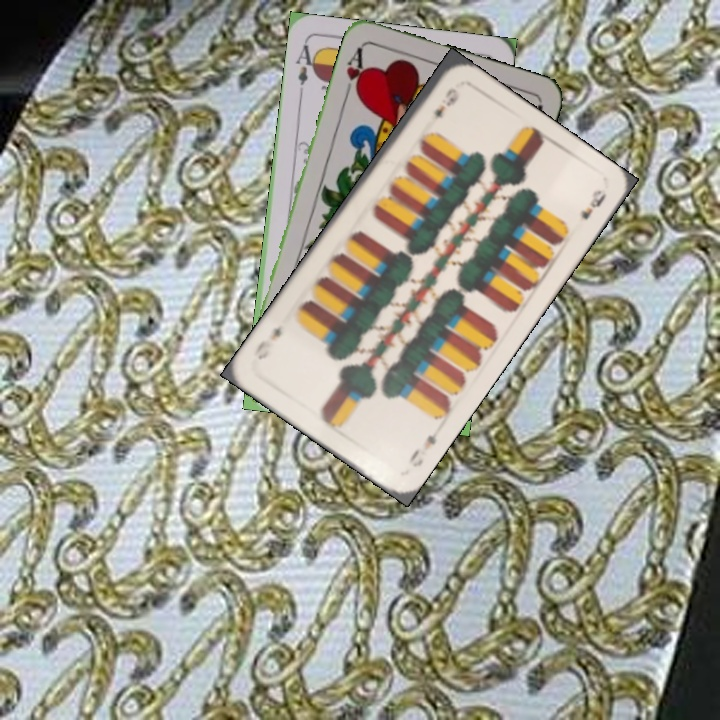E9: (404, 424, 443, 470), (429, 84, 461, 122)
EA: (291, 38, 320, 97)
HA: (340, 42, 369, 101)
